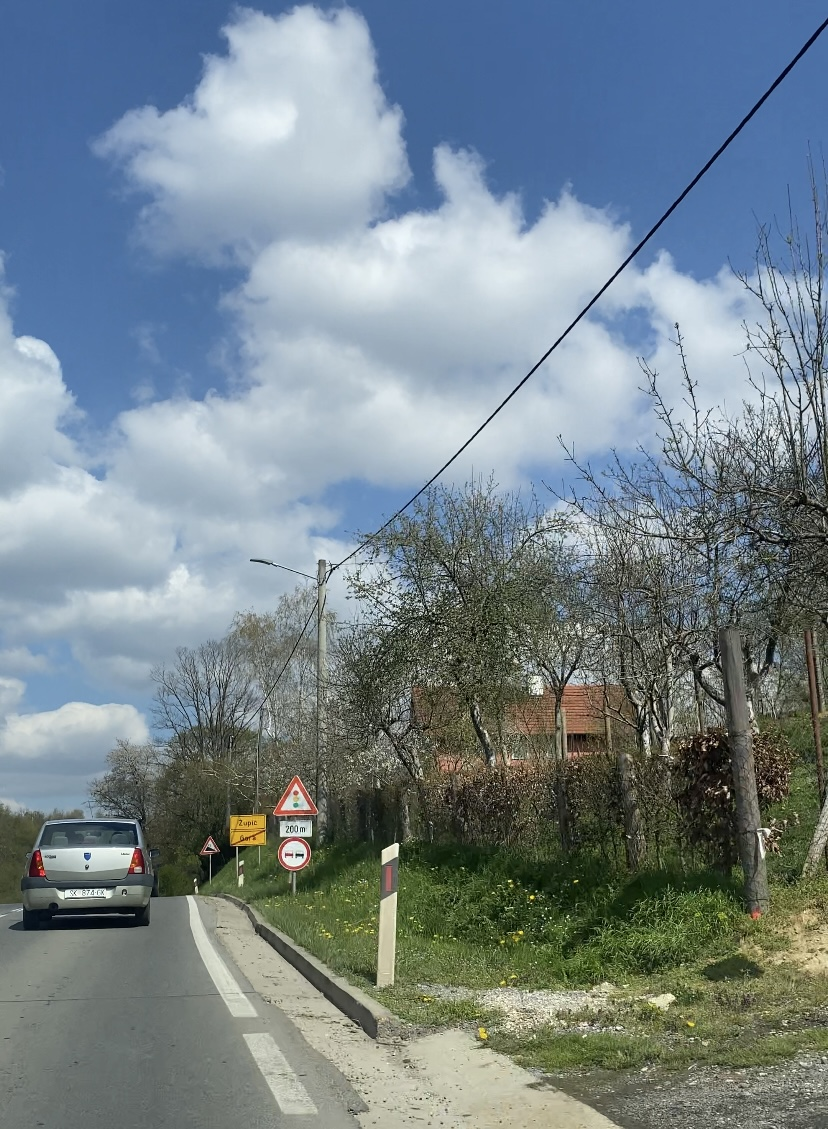Zabrana pretjecanja: (277, 837, 311, 871)
